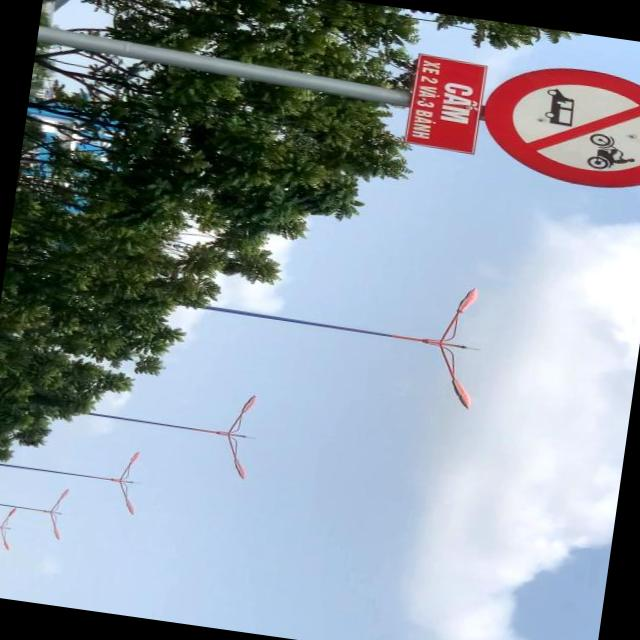P-104: (474, 57, 640, 196)
